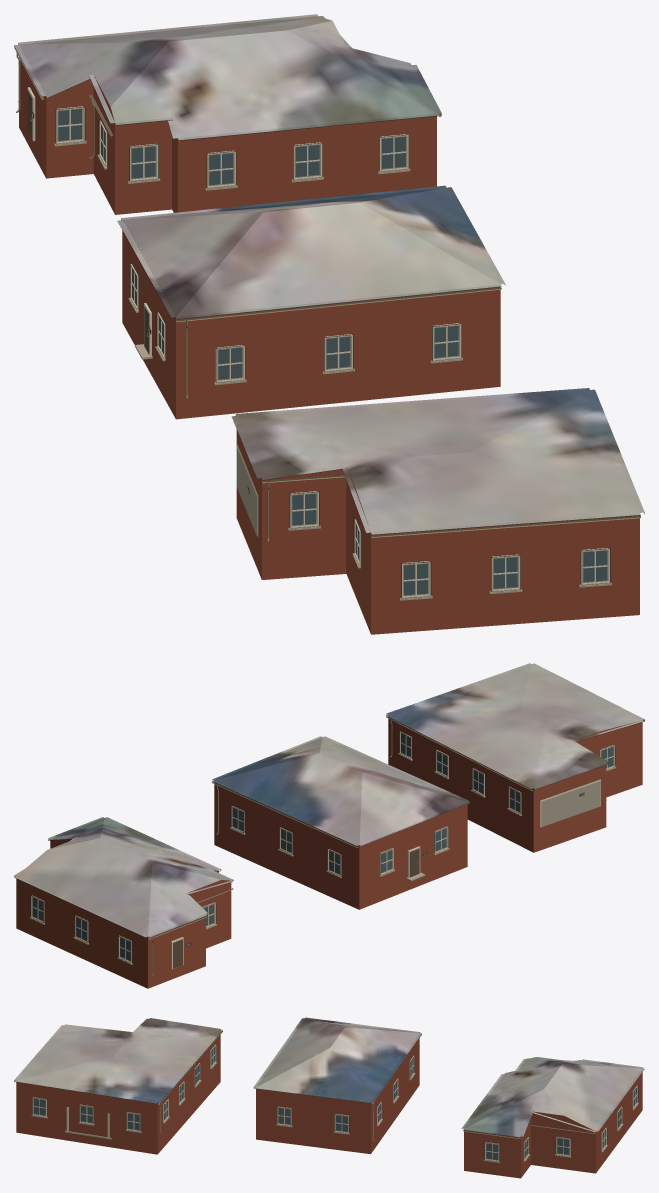
The picture shows the model from 3 angles, top to bottom: view 1: azimuth 30°, elevation 25°; view 2: azimuth 150°, elevation 25°; view 3: azimuth 270°, elevation 25°; orthographic projection. The views are drawn at different scales.
Visible parts, largest first — view 1: -1_15_638334080_43; view 2: -1_15_638334080_43; view 3: -1_15_638334080_43.
Boxes of the visible parts, box(x1,y1,x2,y2) form: -1_15_638334080_43: box(14, 14, 644, 634); -1_15_638334080_43: box(14, 663, 644, 988); -1_15_638334080_43: box(14, 1017, 644, 1178).
Bounding box in the file's own units: 29.27 × 9.65 × 60.03.
10 materials, 1 textured.
